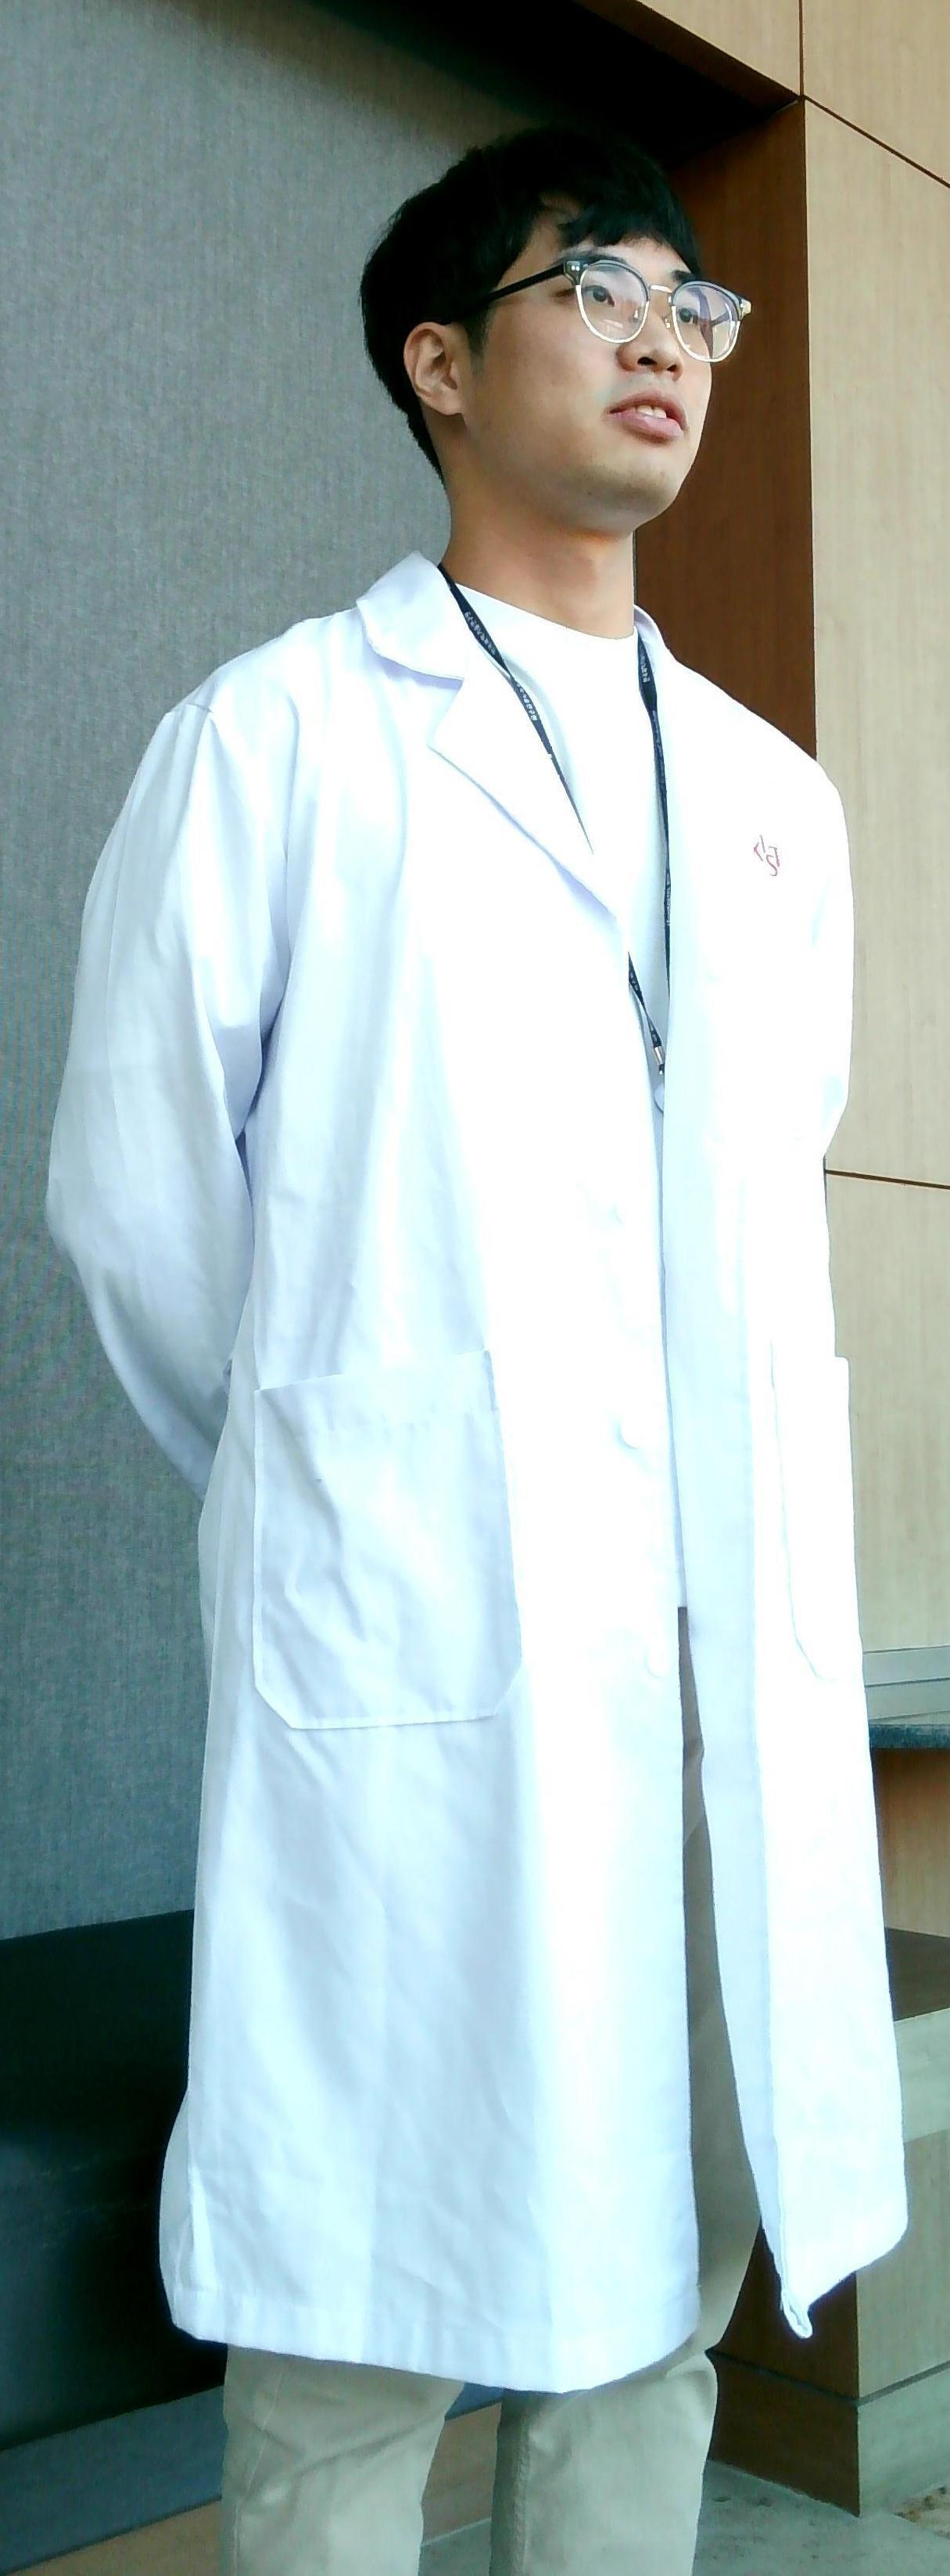lab_coat: (80, 636, 917, 2280)
